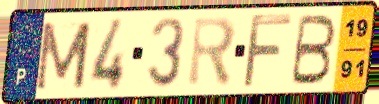3: (146, 16, 186, 91)
4: (87, 16, 128, 92)
B: (288, 13, 339, 87)
F: (240, 12, 294, 91)
M: (32, 20, 93, 92)
R: (186, 15, 239, 90)
